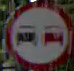No overtake: (5, 1, 73, 70)
